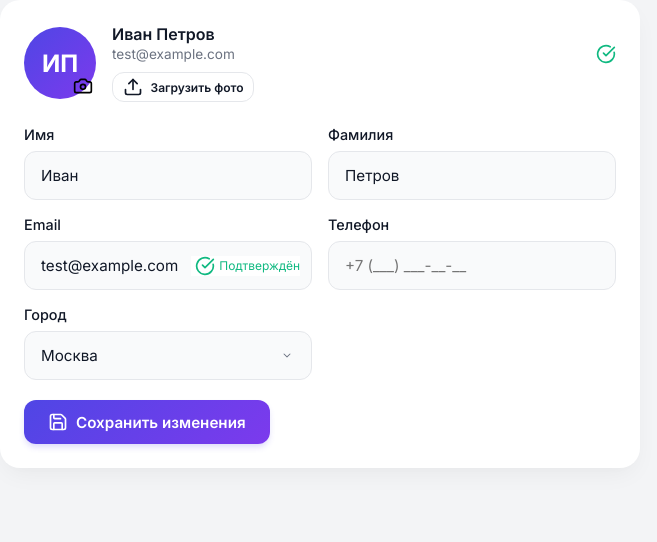
Scenario: SettingsProfilePage › saves profile on button click
Click the button "Сохранить изменения" at [147, 422], box [24,400,270,444]
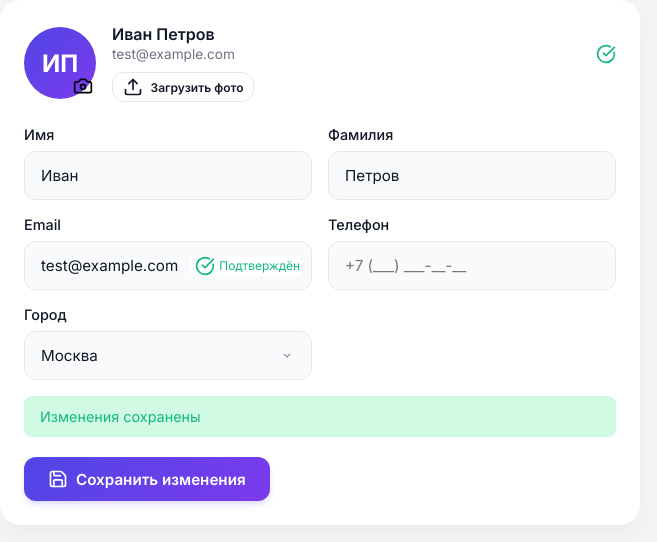
Check: the text "Изменения сохранены" is shown, box [24,396,616,437]
